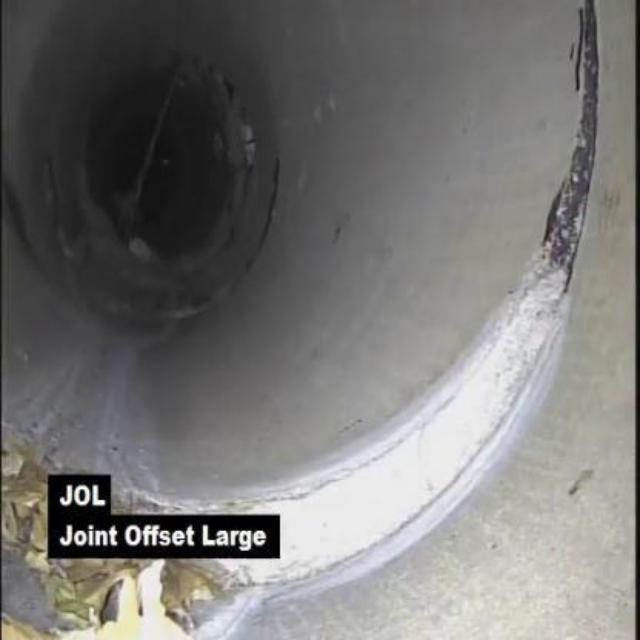Joint offset: (446, 146, 592, 491), (242, 386, 445, 592)
